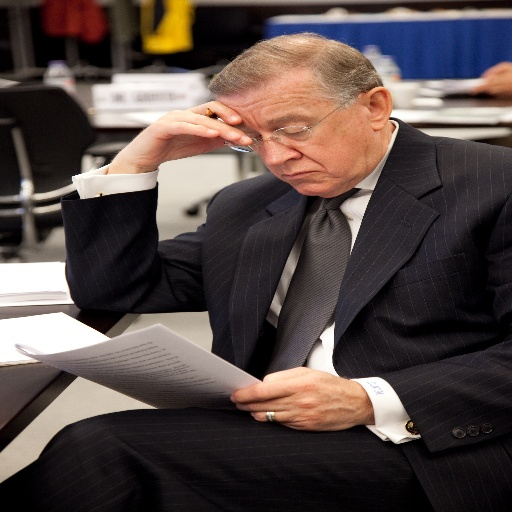hand: (228, 365, 368, 432), (144, 96, 255, 157), (468, 73, 511, 95), (480, 62, 511, 76)
